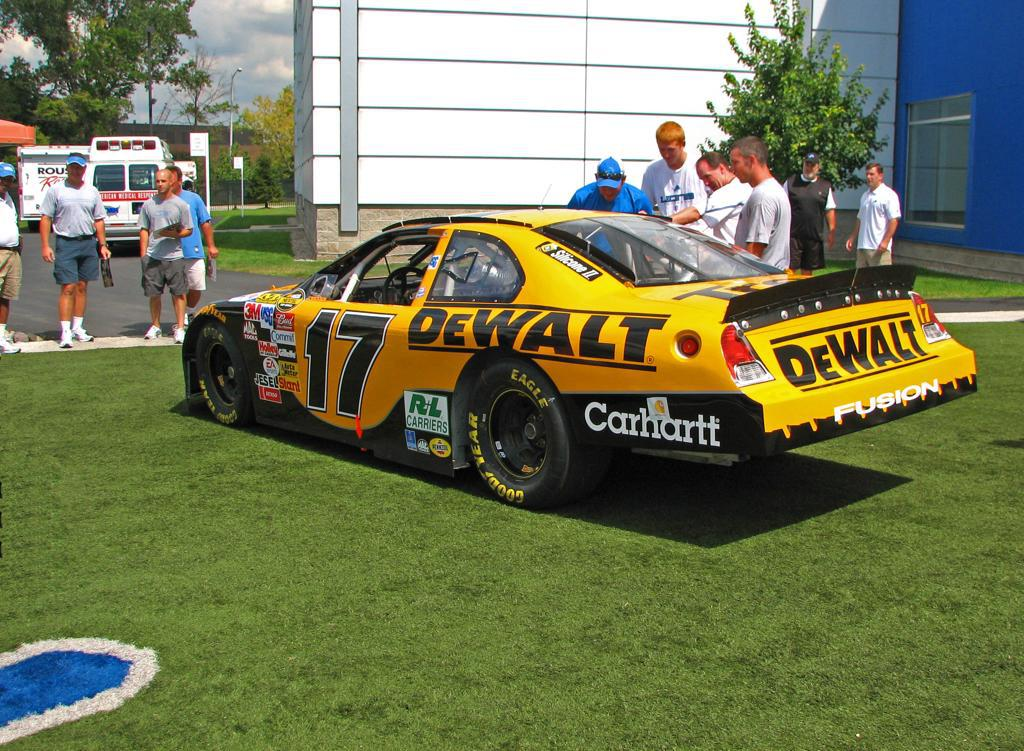face: (697, 164, 720, 192), (731, 150, 749, 183), (600, 176, 623, 201), (658, 140, 681, 164), (67, 161, 84, 181), (805, 159, 819, 179), (167, 171, 180, 191), (1, 172, 13, 193), (157, 172, 169, 191), (867, 170, 880, 187)
